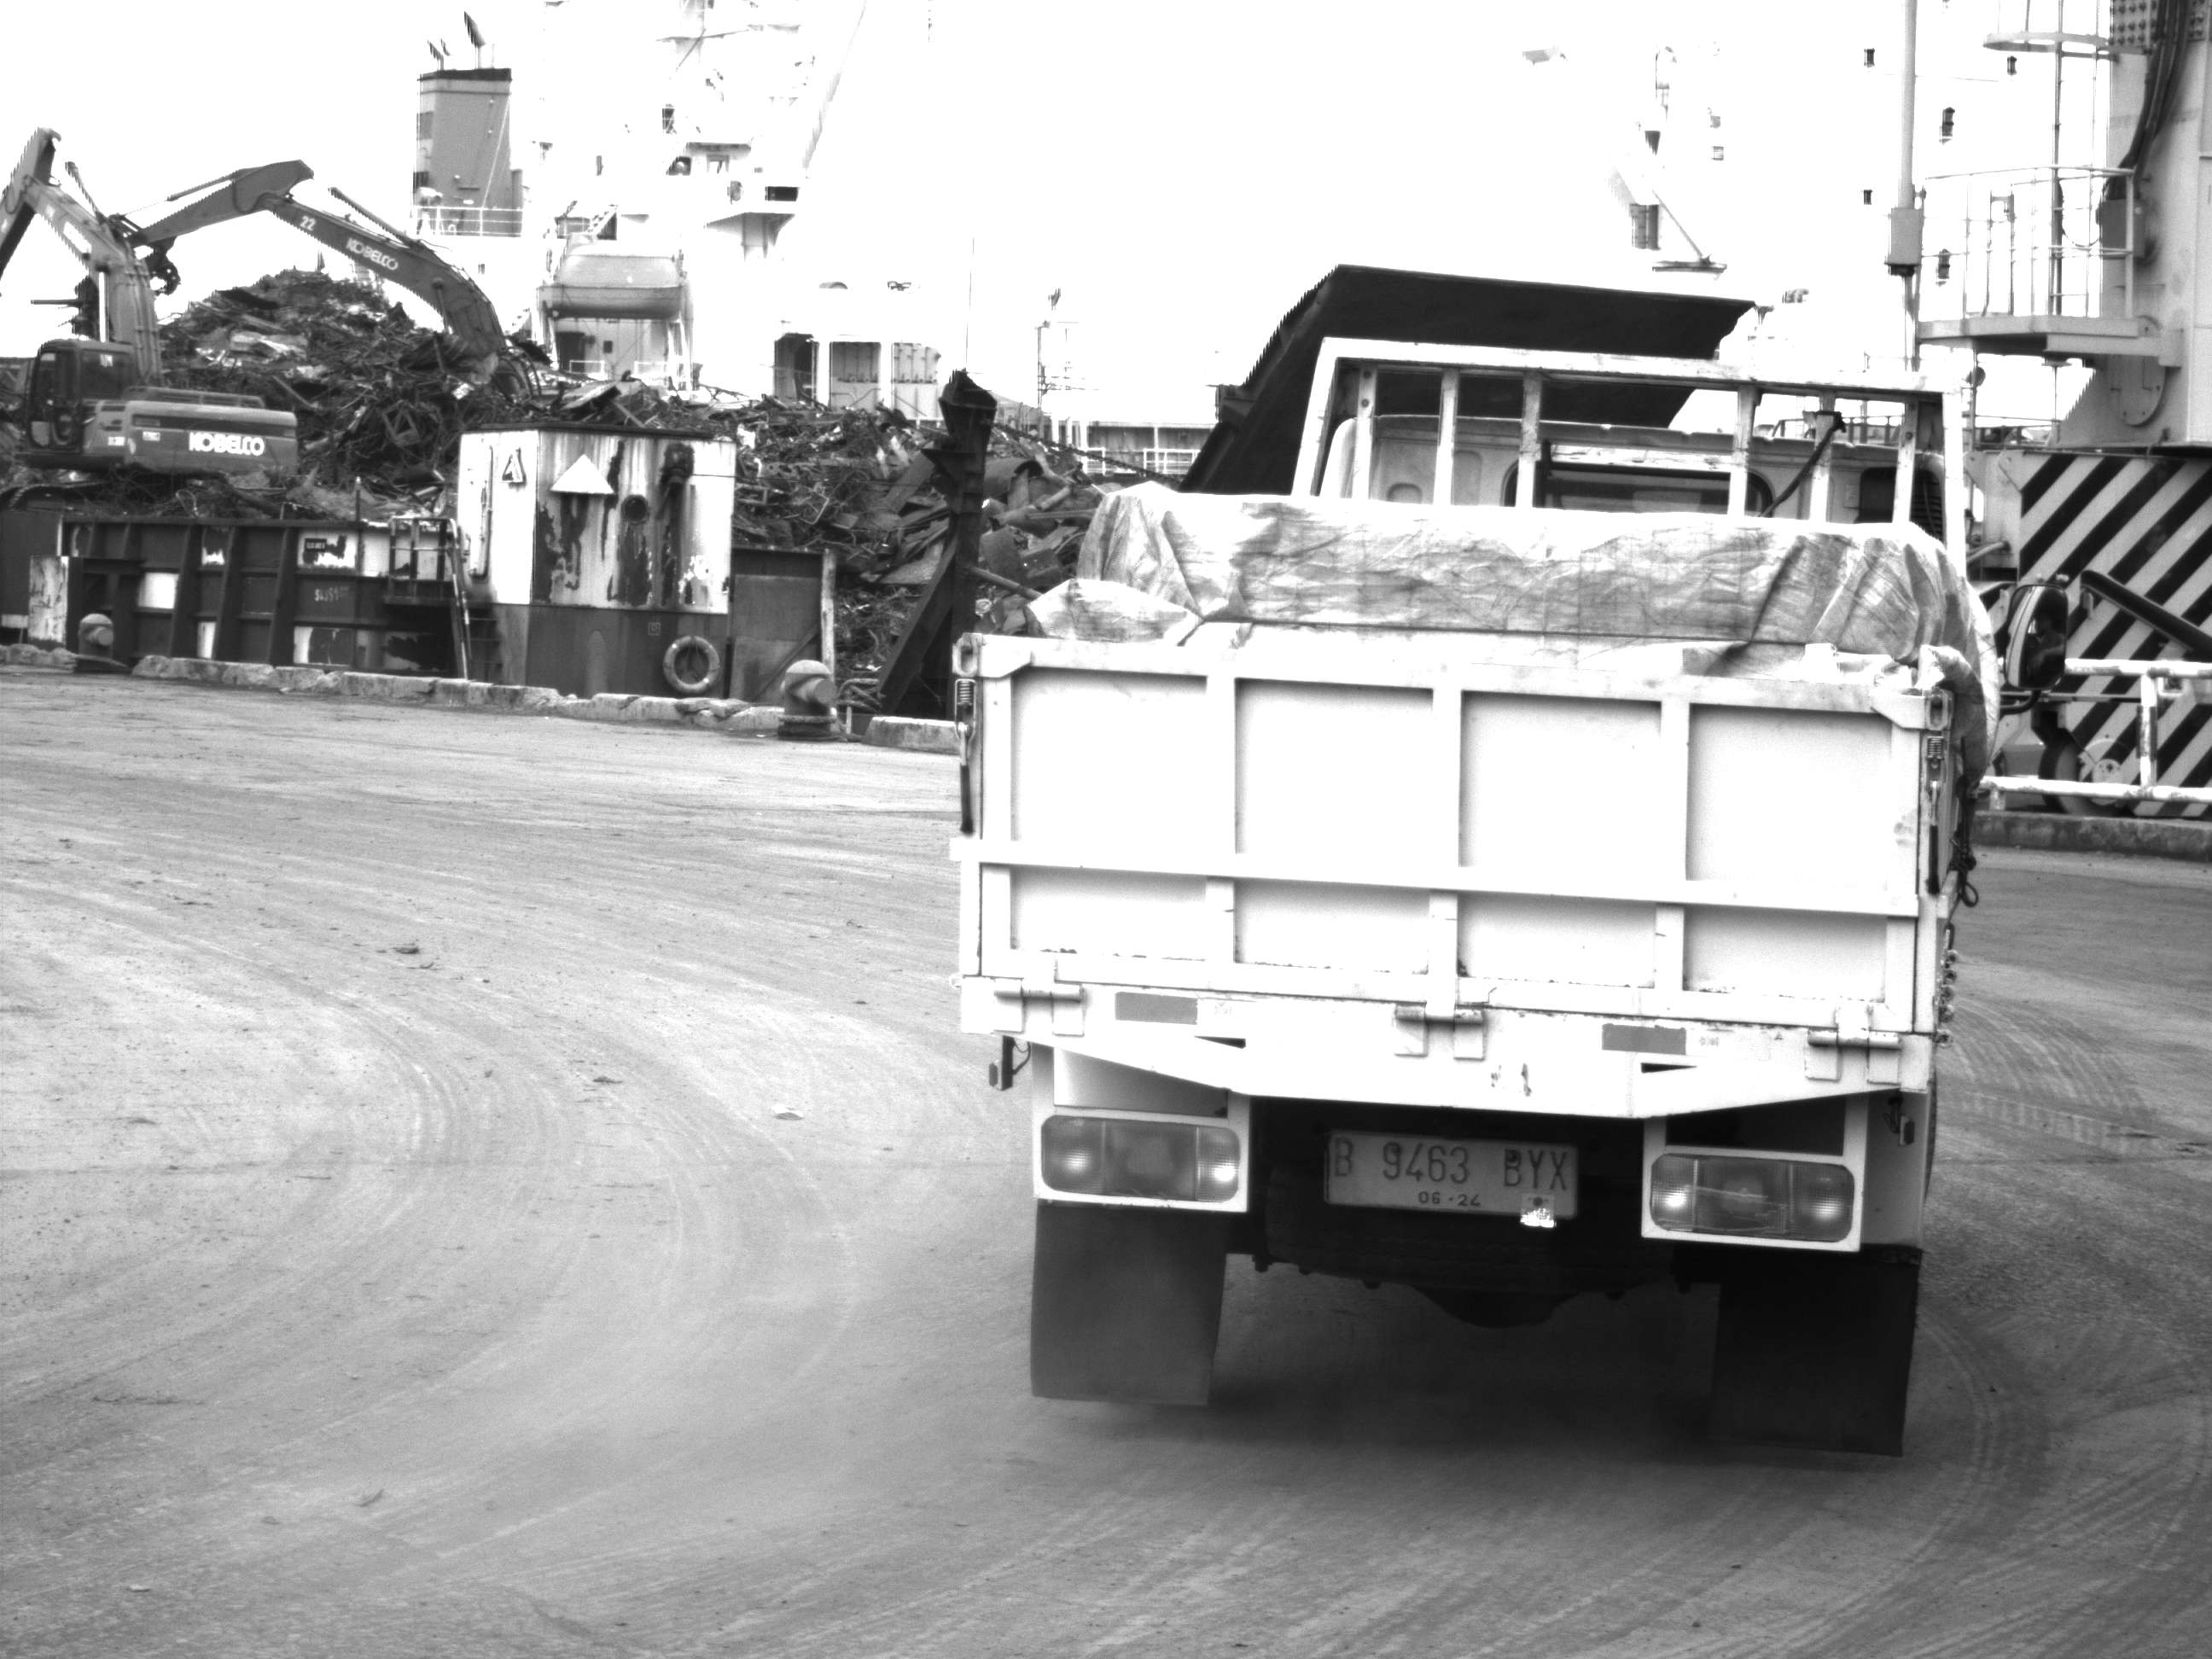day_truck_rear: (943, 626, 1959, 1490)
plate: (1327, 1124, 1575, 1225)
